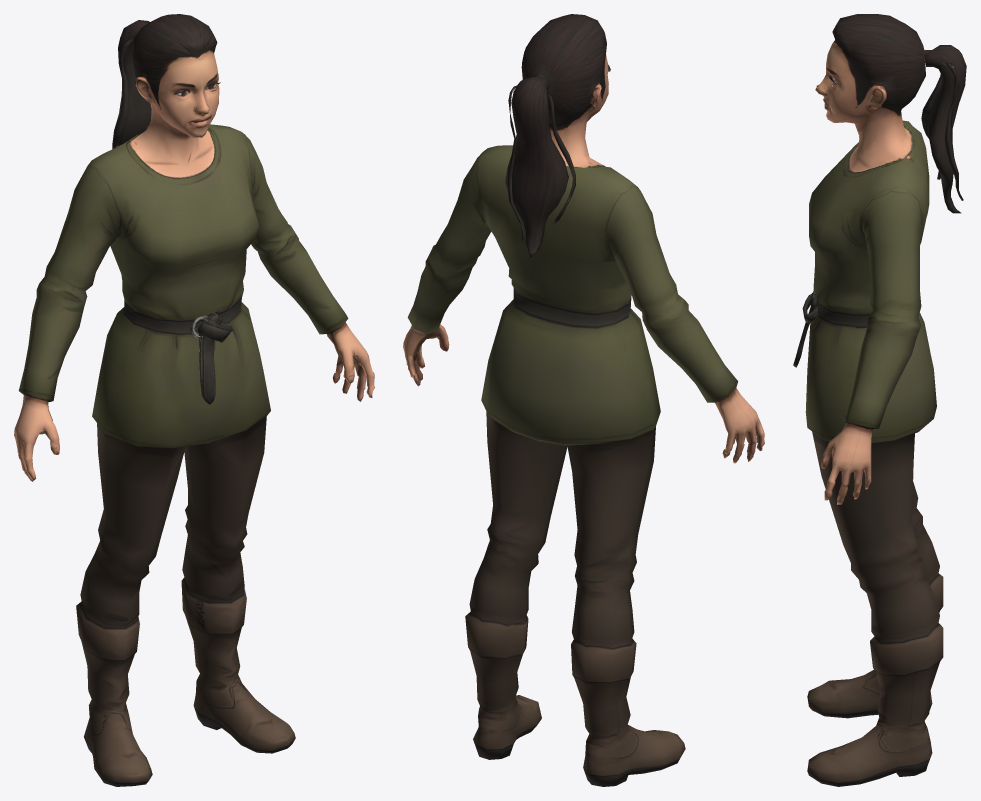
The model's file is selected.glb.
The picture shows the model from 3 angles, left to right: view 1: azimuth 30°, elevation 25°; view 2: azimuth 150°, elevation 25°; view 3: azimuth 270°, elevation 25°; orthographic projection.
Parts seen in each view (by area): view 1: tripo_node_a7eff92f-0495-4218-9e3c-508a7ba6d71f; view 2: tripo_node_a7eff92f-0495-4218-9e3c-508a7ba6d71f; view 3: tripo_node_a7eff92f-0495-4218-9e3c-508a7ba6d71f.
Boxes of the visible parts, x1,y1,x2,y2 form: tripo_node_a7eff92f-0495-4218-9e3c-508a7ba6d71f: (14, 14, 374, 786); tripo_node_a7eff92f-0495-4218-9e3c-508a7ba6d71f: (403, 14, 764, 786); tripo_node_a7eff92f-0495-4218-9e3c-508a7ba6d71f: (793, 14, 966, 786).
Size of the model in its own units: 0.502 by 0.998 by 0.2168.
1 material, 1 textured.
